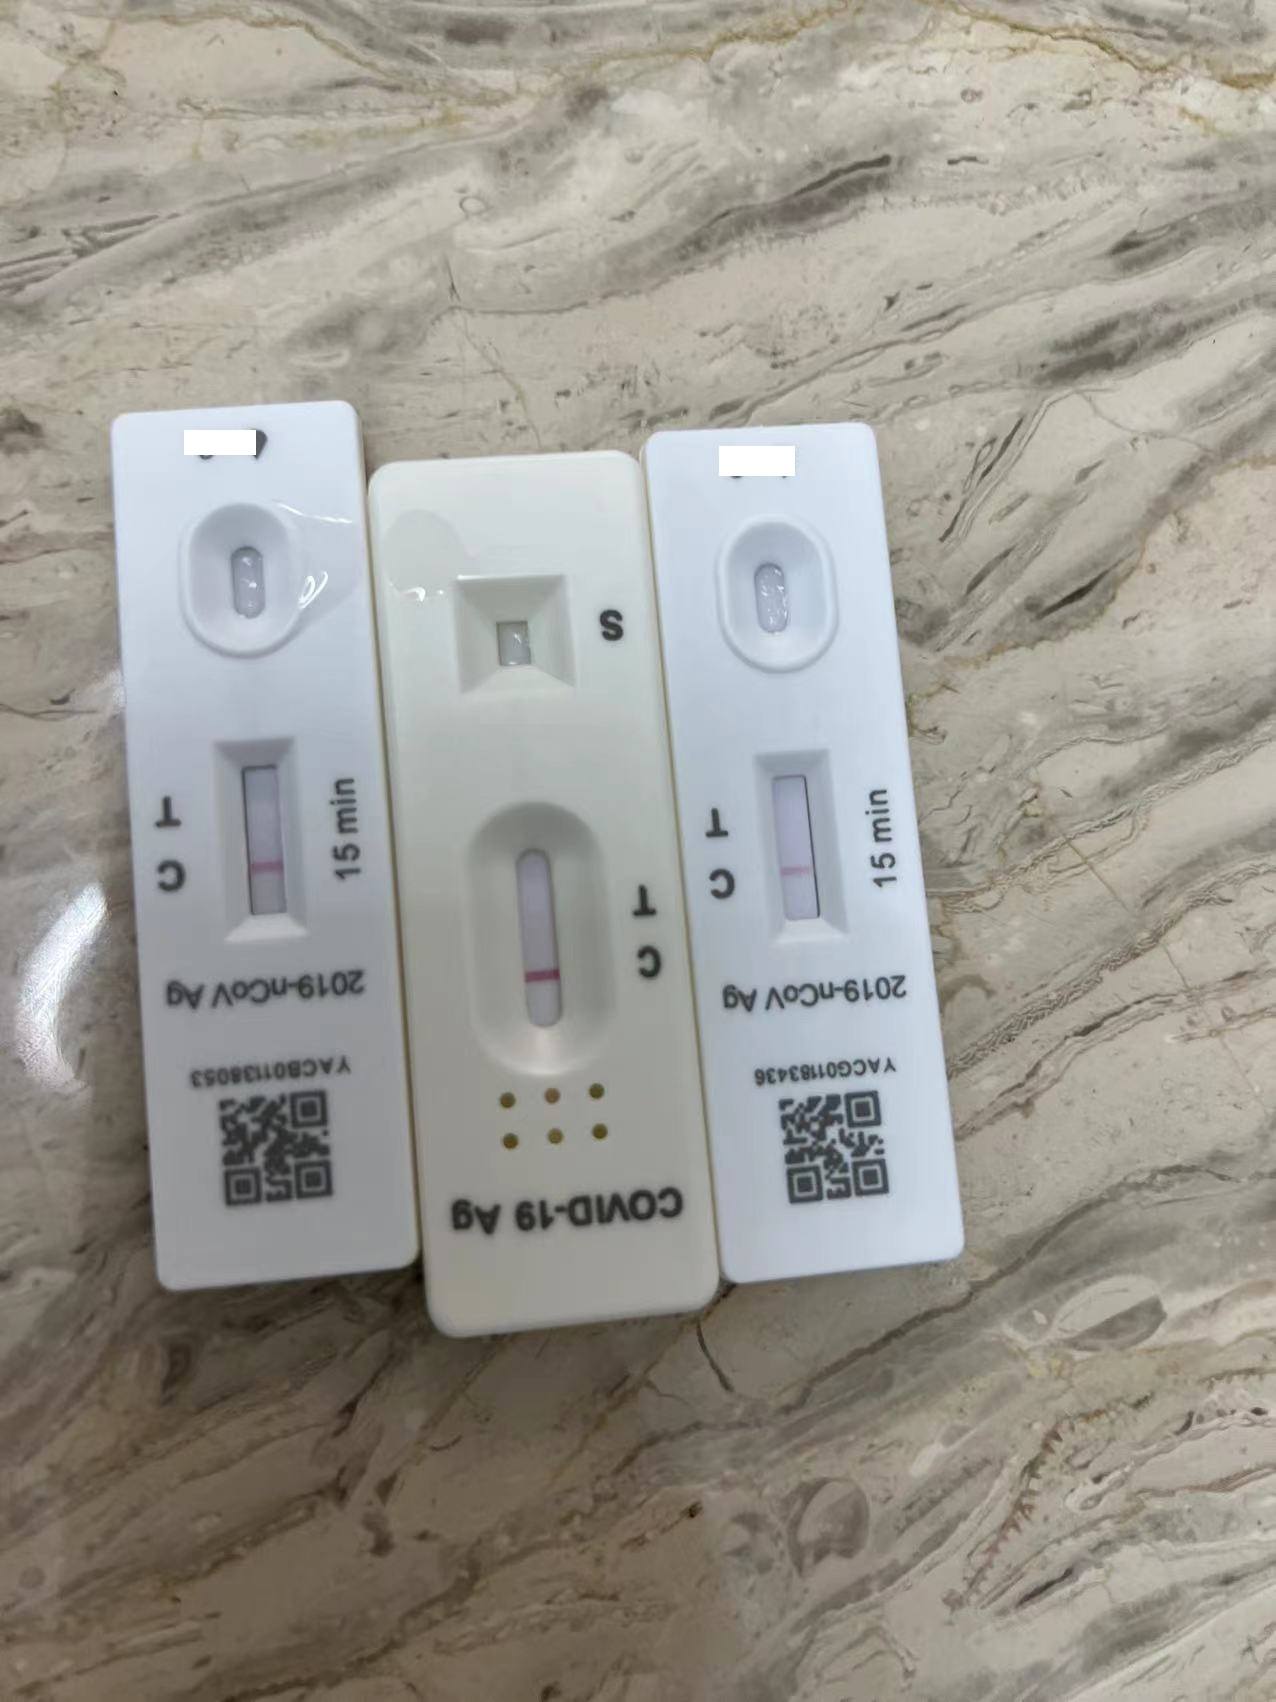negative: (468, 811, 611, 1073), (216, 737, 302, 935), (757, 750, 839, 935)
